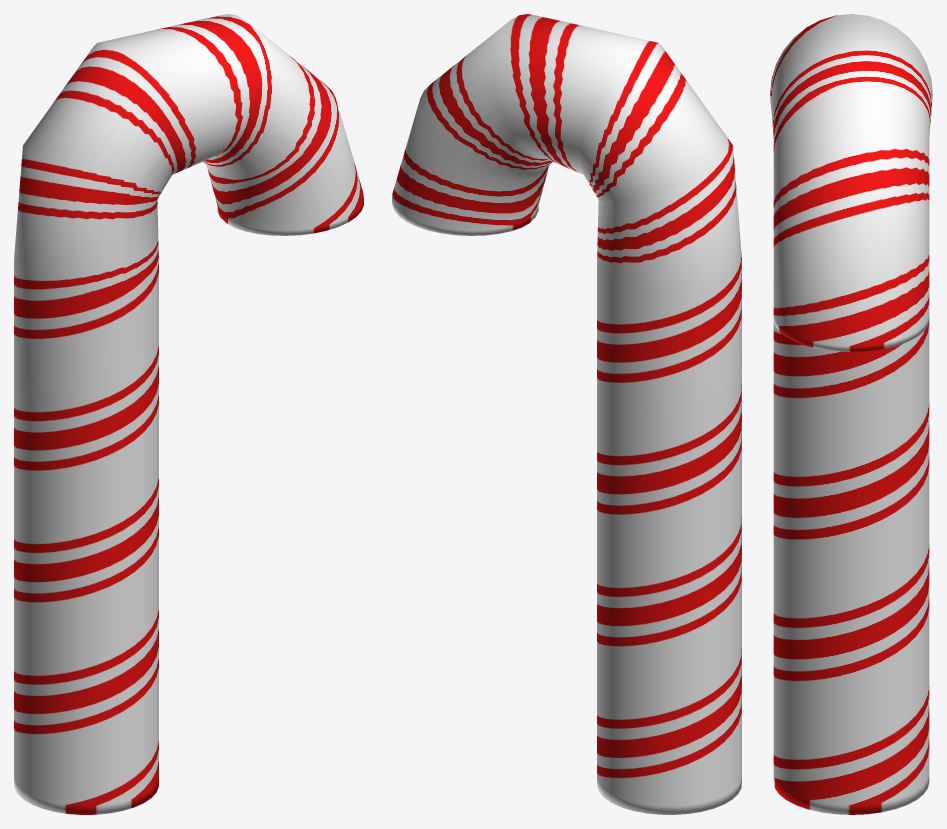
Rendered from candycane.glb.
The picture shows the model from 3 angles, left to right: view 1: azimuth 30°, elevation 25°; view 2: azimuth 150°, elevation 25°; view 3: azimuth 270°, elevation 25°; orthographic projection. The views are drawn at different scales.
Parts seen in each view (by area): view 1: Cylinder; view 2: Cylinder; view 3: Cylinder.
Part boxes in pixels (bbox=[...]): Cylinder: bbox=[14, 14, 363, 814]; Cylinder: bbox=[392, 14, 741, 814]; Cylinder: bbox=[770, 14, 932, 814].
Bounding box in the file's own units: 5.26 × 11.08 × 2.09.
1 material, 1 textured.
